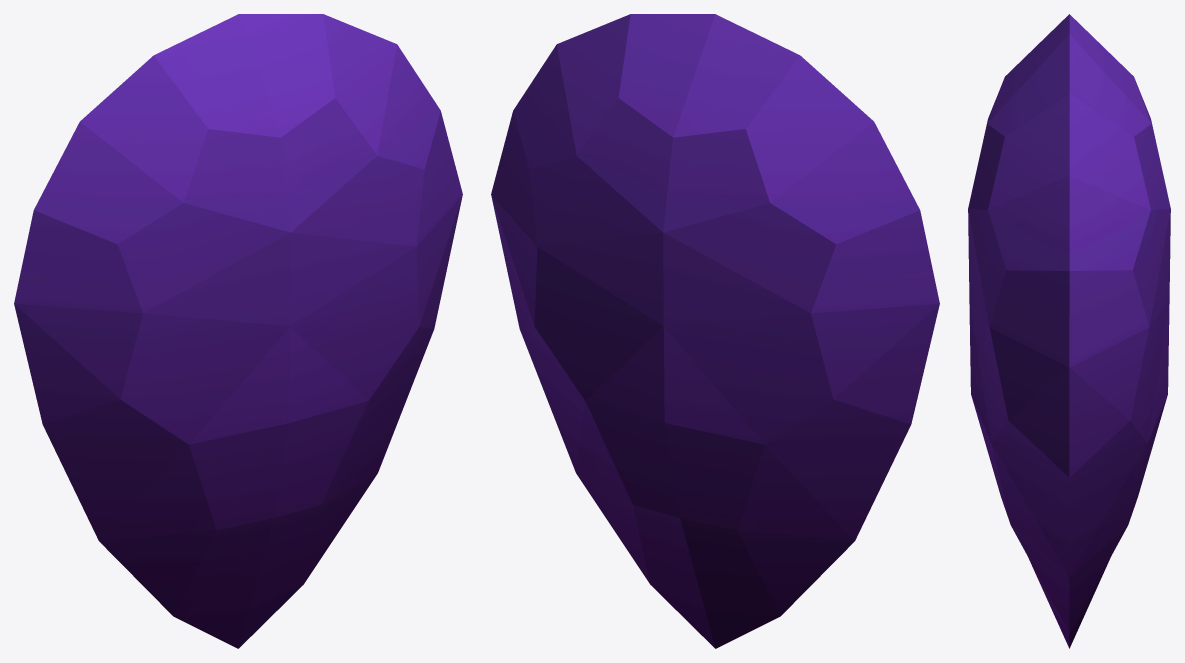
The model's file is amethyst.glb.
The picture shows the model from 3 angles, left to right: view 1: azimuth 30°, elevation 25°; view 2: azimuth 150°, elevation 25°; view 3: azimuth 270°, elevation 25°; orthographic projection. The views are drawn at different scales.
Visible parts, largest first — view 1: SM_Amethyst_Gem2; view 2: SM_Amethyst_Gem2; view 3: SM_Amethyst_Gem2.
Part boxes in pixels (box(x1,y1,x2,y2)): SM_Amethyst_Gem2: box(14, 14, 462, 648); SM_Amethyst_Gem2: box(491, 14, 939, 648); SM_Amethyst_Gem2: box(968, 14, 1170, 648).
Bounding box in the file's own units: 0.3674 × 0.4964 × 0.1484.
Materials: 1 (1 with a texture image).
